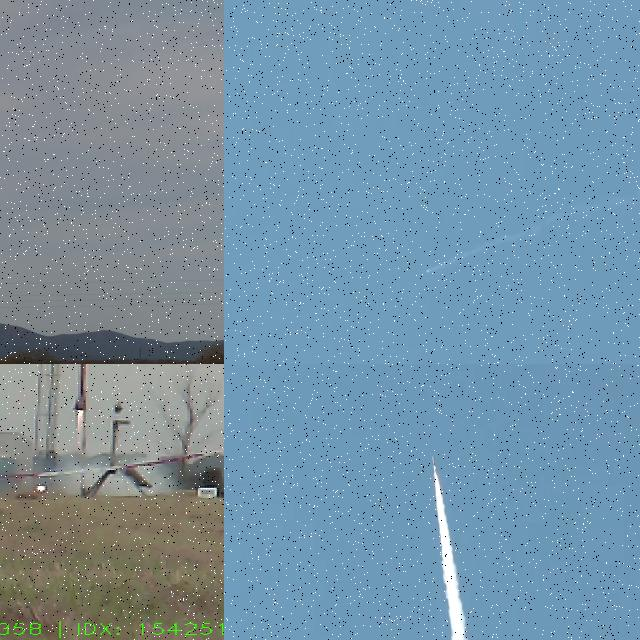Rocket: (71, 364, 89, 410), (432, 456, 436, 477), (426, 270, 428, 272)
